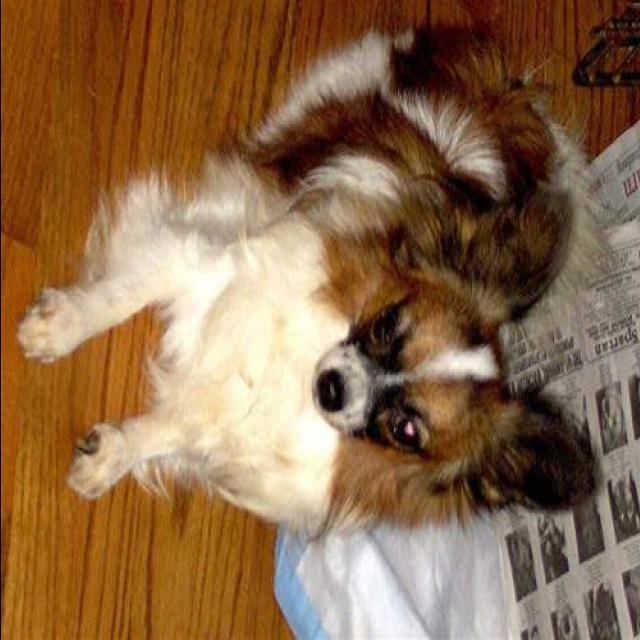dog: (8, 31, 606, 575)
